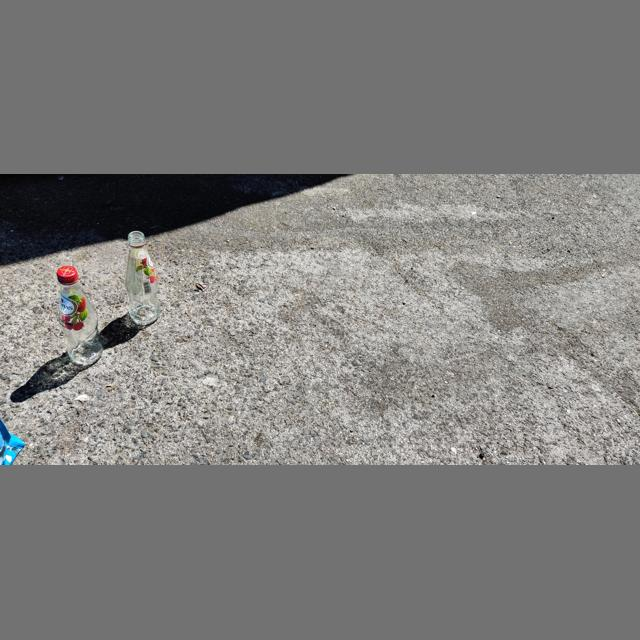litter: (57, 266, 104, 365), (124, 231, 161, 325), (57, 266, 78, 282)
